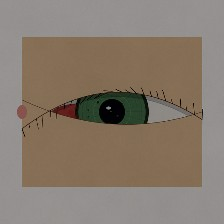hemorrhage_spot: (37, 80, 127, 152)
